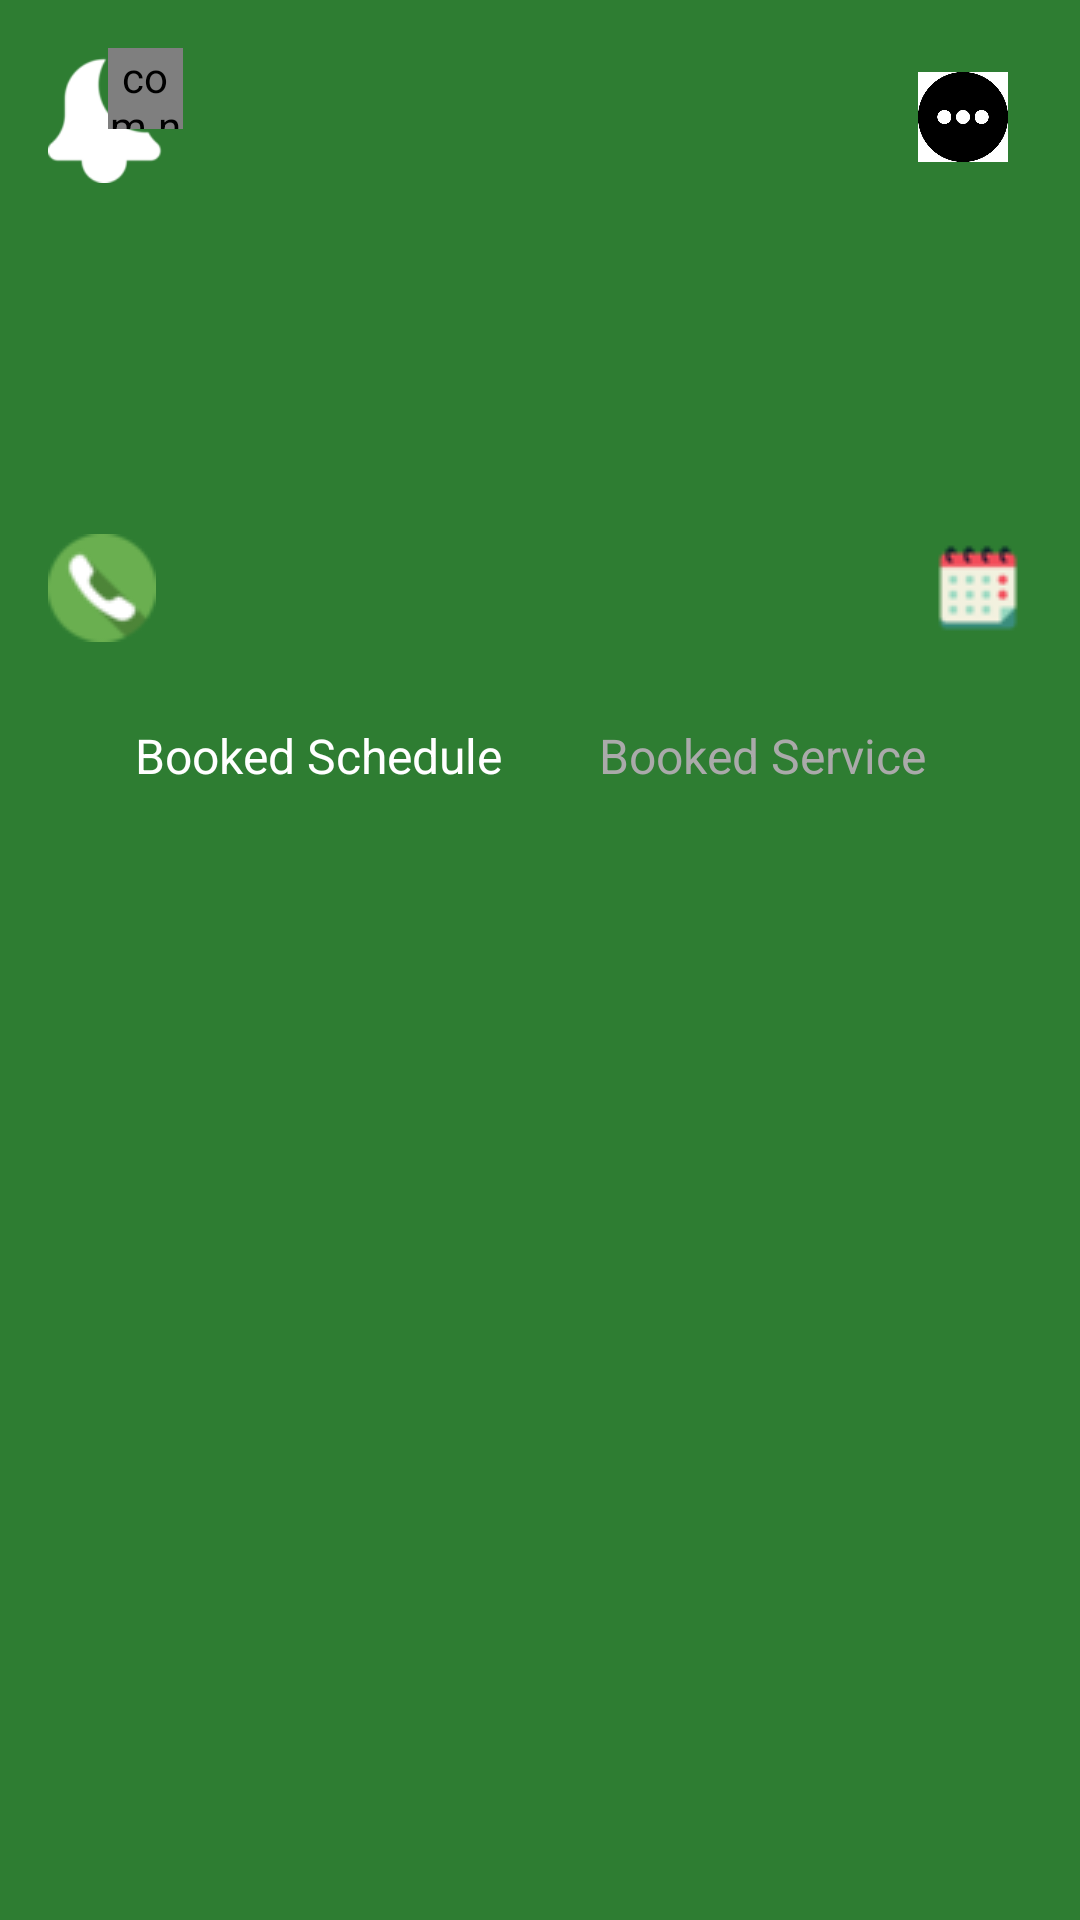

Point at icon controls on the screen. Image size 1080 x 1920, points as point (x, y).
Icon điện thoại: point (102, 588)
Tùy chọn: point (963, 117)
